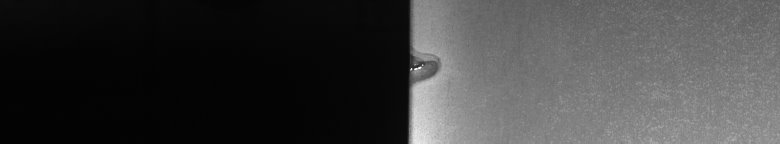hb: (420, 54, 444, 85)
